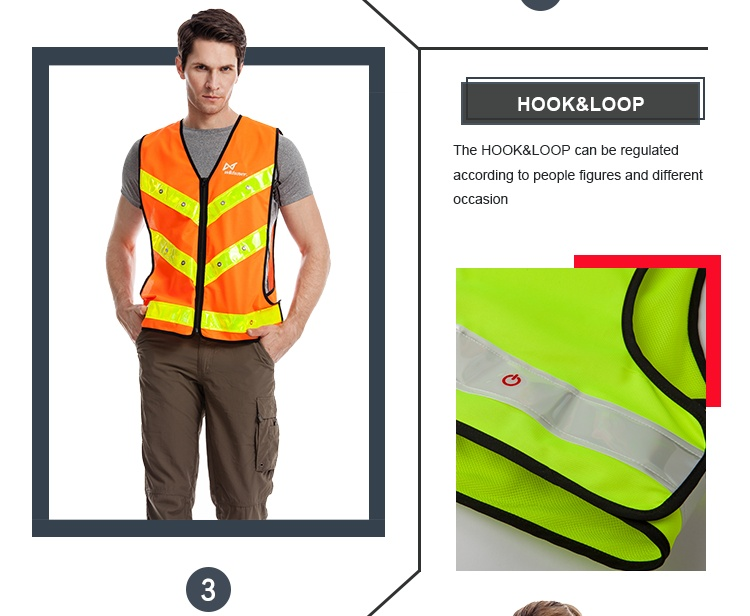person with partial safety: (107, 12, 328, 519)
safety vest: (134, 116, 283, 340)
